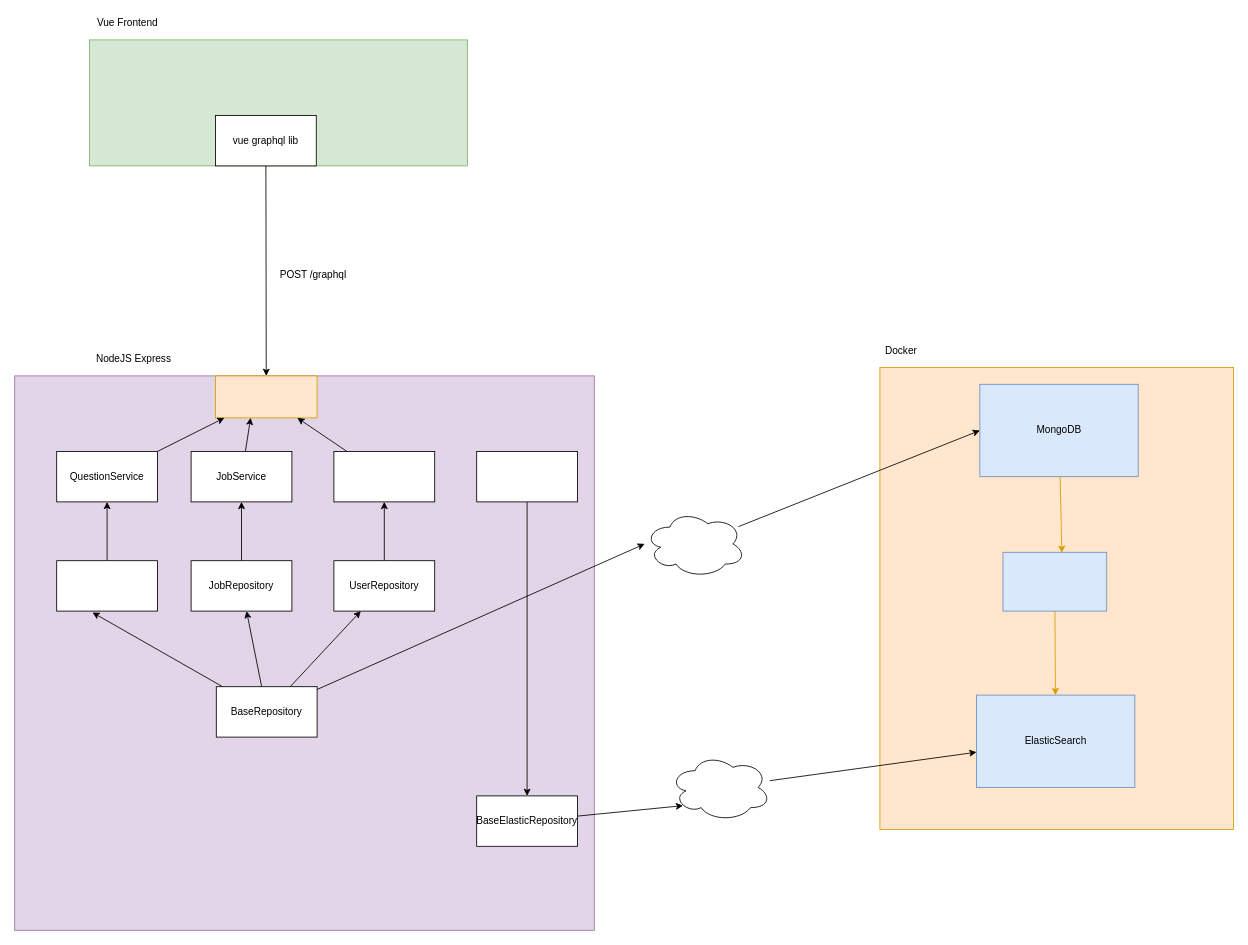
This 1248x945 diagram has some shape labels left out. The box of each missing label's shape, as (x1, y1, x2, y2) in pixels:
graphql resolvers: (215, 375, 317, 418)
JobSearchService: (476, 451, 578, 502)
Monstache(synchronize changes to ElasticSearch): (1002, 551, 1107, 611)
QARepository: (56, 560, 158, 611)
UserService: (333, 451, 435, 502)
